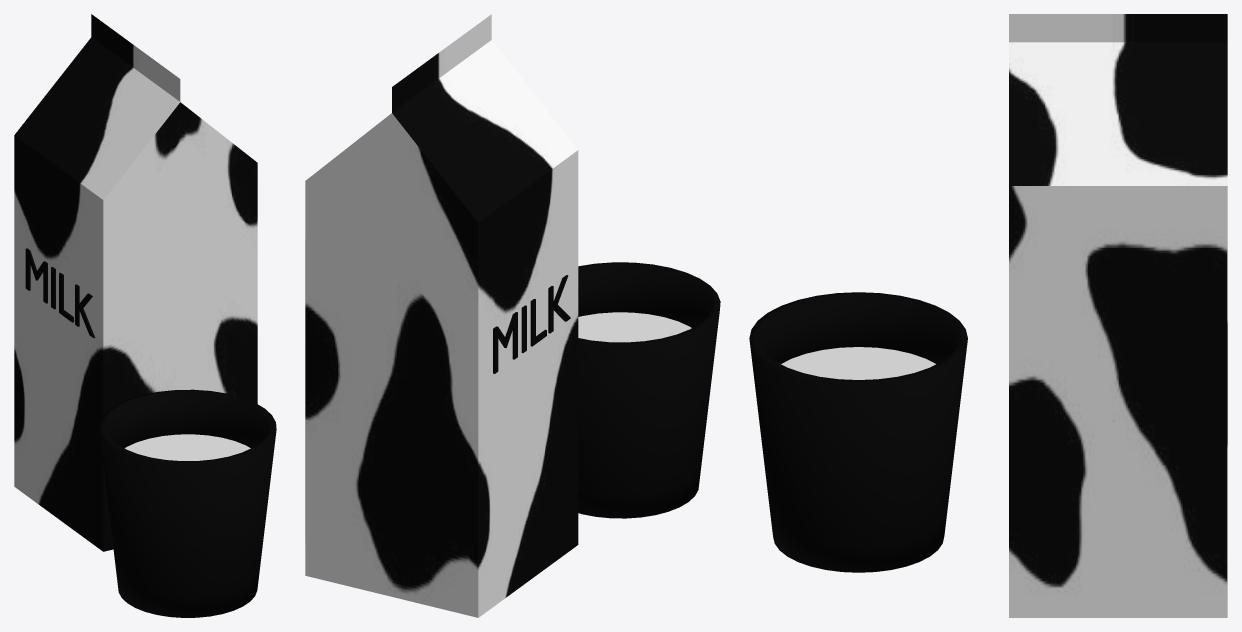
Rendered from Leite.glb.
3 views of the same model, side by side, from view 1: azimuth 30°, elevation 25°; view 2: azimuth 150°, elevation 25°; view 3: azimuth 270°, elevation 25° (orthographic). The views are drawn at different scales.
Visible parts, largest first — view 1: Cube, Cylinder, Text; view 2: Cube, Cylinder, Text; view 3: Cube, Cylinder.
Part boxes in pixels (x1,y1,x2,y2): Cube: [14, 14, 257, 551]; Cylinder: [99, 389, 276, 617]; Text: [25, 248, 95, 338]; Cube: [305, 14, 578, 617]; Cylinder: [578, 262, 720, 518]; Text: [493, 275, 570, 373]; Cube: [1009, 14, 1227, 617]; Cylinder: [749, 292, 967, 572].
Size of the model in its own units: 1.21 by 2.52 by 1.96.
Materials: 4 (1 with a texture image).
